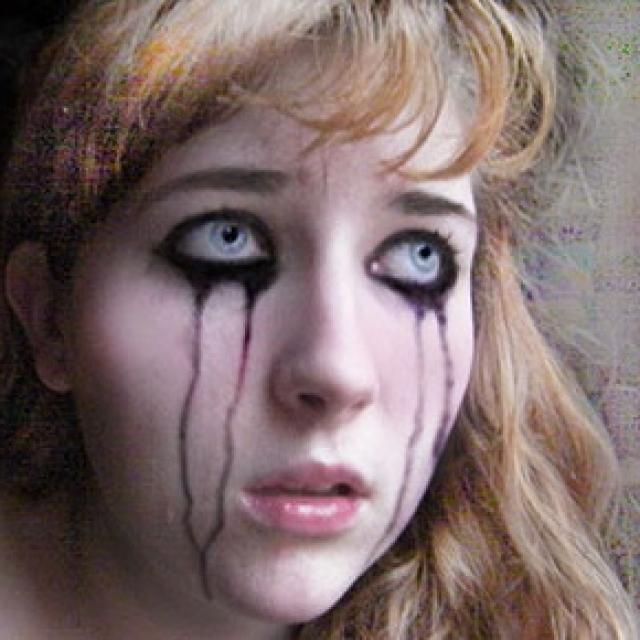Depress: (68, 29, 480, 626)
